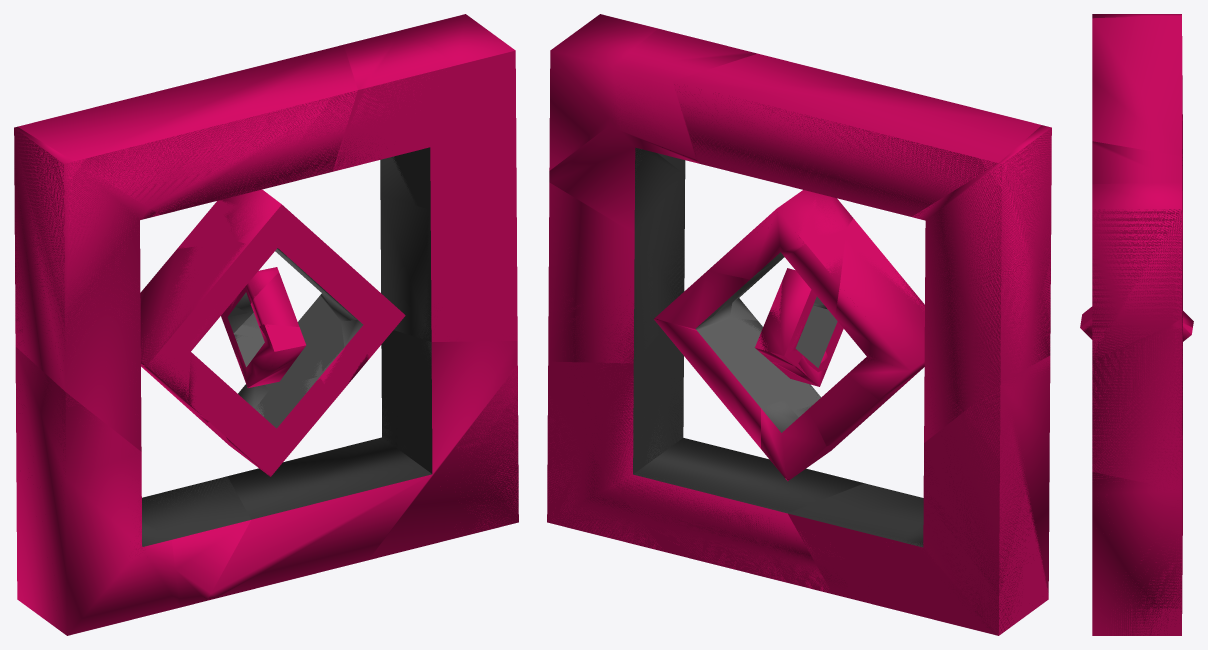
File: ExplodingDiamondBlast.fbx
3 renders of one model, left to right at view 1: azimuth 30°, elevation 25°; view 2: azimuth 150°, elevation 25°; view 3: azimuth 270°, elevation 25°, orthographic. The views are drawn at different scales.
Visible parts, largest first — view 1: Cube.001, Cube.001_shard.005, Cube.001_shard.006, Cube.001_shard.007, Cube.001_shard, Cube.002, Cube.001_shard.008, Cube.001_shard.003, Cube.002_shard.006, Cube.001_shard.004, Cube.001_shard.002, Cube (+5 smaller); view 2: Cube.001, Cube.001_shard.006, Cube.001_shard, Cube.001_shard.005, Cube.001_shard.003, Cube.001_shard.007, Cube.002_shard.006, Cube.001_shard.004, Cube.002, Cube.001_shard.002, Cube.001_shard.001, Cube.002_shard.008 (+8 smaller); view 3: Cube.001, Cube.001_shard.002, Cube.001_shard.005, Cube.001_shard.003, Cube.001_shard.006, Cube.001_shard.004, Cube.001_shard, Cube, Cube_shard.001.
Boxes of the visible parts, x1,y1,x2,y2 form: Cube.001: [14, 50, 518, 557]; Cube.001_shard.005: [207, 340, 518, 600]; Cube.001_shard.006: [18, 44, 357, 214]; Cube.001_shard.007: [15, 347, 179, 635]; Cube.001_shard: [14, 126, 159, 451]; Cube.002: [141, 200, 405, 476]; Cube.001_shard.008: [142, 476, 251, 607]; Cube.001_shard.003: [380, 196, 481, 341]; Cube.002_shard.006: [140, 243, 248, 414]; Cube.001_shard.004: [332, 29, 456, 171]; Cube.001_shard.002: [404, 14, 515, 64]; Cube: [221, 286, 305, 370]; Cube.001: [547, 84, 1051, 635]; Cube.001_shard.006: [672, 53, 1041, 216]; Cube.001_shard: [912, 125, 1051, 442]; Cube.001_shard.005: [548, 363, 863, 592]; Cube.001_shard.003: [548, 174, 685, 363]; Cube.001_shard.007: [902, 360, 1050, 633]; Cube.002_shard.006: [835, 240, 924, 399]; Cube.001_shard.004: [608, 28, 756, 159]; Cube.002: [697, 195, 924, 479]; Cube.001_shard.002: [549, 14, 657, 170]; Cube.001_shard.001: [549, 126, 698, 233]; Cube.002_shard.008: [707, 190, 853, 279]; Cube.001: [1092, 209, 1182, 635]; Cube.001_shard.002: [1092, 182, 1182, 359]; Cube.001_shard.005: [1092, 472, 1181, 635]; Cube.001_shard.003: [1092, 319, 1182, 490]; Cube.001_shard.006: [1092, 15, 1182, 211]; Cube.001_shard.004: [1092, 141, 1182, 224]; Cube.001_shard: [1092, 14, 1182, 120]; Cube: [1080, 306, 1192, 334]; Cube_shard.001: [1183, 311, 1193, 341].
Size of the model in its own units: 483 by 483 by 116.
